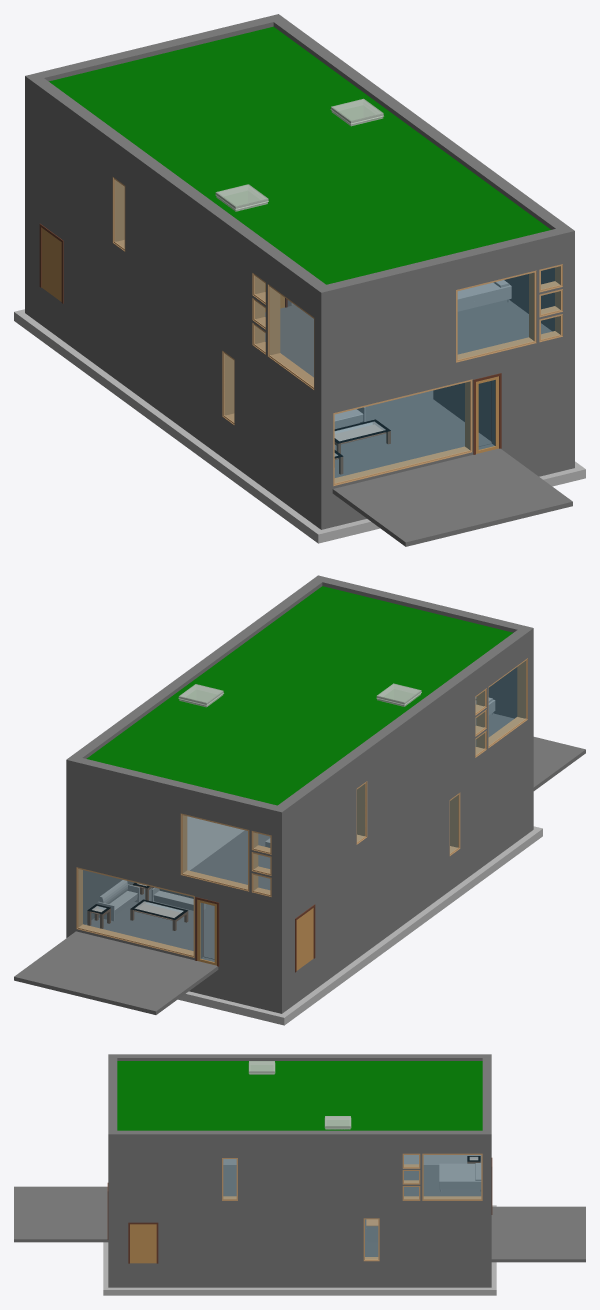
File: ifcFile-1585745290338.ifc.dae
3 renders of one model, top to bottom at view 1: azimuth 30°, elevation 25°; view 2: azimuth 150°, elevation 25°; view 3: azimuth 270°, elevation 25°, orthographic. The views are drawn at different scales.
Parts seen in each view (by area): view 1: 3ThA22djr8AQQ9eQMA5s7I, 2O2Fr$t4X7Zf8NOew3FNhv, 2O2Fr$t4X7Zf8NOew3FLPP, 2O2Fr$t4X7Zf8NOew3FLOH, 1CZILmCaHETO8tf3SgGEXu, 2O2Fr$t4X7Zf8NOew3FNr2, 2O2Fr$t4X7Zf8NOew3FKE5, 1hOSvn6df7F8_7GcBWlRBU, 0jf0rYHfX3RAB3bSIRjmr1, 2OBrcmyk58NupXoVOHUtxr, 0jf0rYHfX3RAB3bSIRjmoa, 1hOSvn6df7F8_7GcBWlS_W (+19 smaller); view 2: 3ThA22djr8AQQ9eQMA5s7I, 2O2Fr$t4X7Zf8NOew3FNhv, 2O2Fr$t4X7Zf8NOew3FLPP, 2O2Fr$t4X7Zf8NOew3FLQD, 1CZILmCaHETO8tf3SgGEWh, 2O2Fr$t4X7Zf8NOew3FNtn, 2O2Fr$t4X7Zf8NOew3FKE5, 1hOSvn6df7F8_7GcBWlR72, 0jf0rYHfX3RAB3bSIRjmr1, 0jf0rYHfX3RAB3bSIRjmmy, 1hOSvn6df7F8_7GcBWlSXO, 0kF45Qs8L9PAM9kmb1lT5t (+20 smaller); view 3: 3ThA22djr8AQQ9eQMA5s7I, 2O2Fr$t4X7Zf8NOew3FNqI, 2O2Fr$t4X7Zf8NOew3FLR9, 2O2Fr$t4X7Zf8NOew3FK9N, 0jf0rYHfX3RAB3bSIRjmpw, 1CZILmCaHETO8tf3SgGEWh, 1CZILmCaHETO8tf3SgGEXu, 0kF45Qs8L9PAM9kmb1lT5d, 1l0GAJtRTFv8$zmKJOH4pU, 0jf0rYHfX3RAB3bSIRjmr1, 1hOSvn6df7F8_7GcBWlRGQ, 2OBrcmyk58NupXoVOHUtDX (+10 smaller).
Boxes of the visible parts, box(x1,y1,x2,y2) form: 3ThA22djr8AQQ9eQMA5s7I: box(49, 26, 550, 284); 2O2Fr$t4X7Zf8NOew3FNhv: box(32, 187, 314, 486); 2O2Fr$t4X7Zf8NOew3FLPP: box(25, 94, 321, 398); 2O2Fr$t4X7Zf8NOew3FLOH: box(321, 249, 574, 398); 1CZILmCaHETO8tf3SgGEXu: box(332, 448, 572, 546); 2O2Fr$t4X7Zf8NOew3FNr2: box(314, 340, 562, 491); 2O2Fr$t4X7Zf8NOew3FKE5: box(32, 281, 314, 524); 1hOSvn6df7F8_7GcBWlRBU: box(333, 379, 472, 486); 0jf0rYHfX3RAB3bSIRjmr1: box(32, 78, 325, 305); 2OBrcmyk58NupXoVOHUtxr: box(334, 390, 491, 477); 0jf0rYHfX3RAB3bSIRjmoa: box(314, 229, 562, 310); 1hOSvn6df7F8_7GcBWlS_W: box(456, 270, 536, 362); 3ThA22djr8AQQ9eQMA5s7I: box(86, 586, 513, 805); 2O2Fr$t4X7Zf8NOew3FNhv: box(287, 722, 527, 977); 2O2Fr$t4X7Zf8NOew3FLPP: box(282, 644, 533, 901); 2O2Fr$t4X7Zf8NOew3FLQD: box(66, 775, 281, 902); 1CZILmCaHETO8tf3SgGEWh: box(14, 931, 218, 1014); 2O2Fr$t4X7Zf8NOew3FNtn: box(66, 850, 287, 981); 2O2Fr$t4X7Zf8NOew3FKE5: box(287, 802, 527, 1009); 1hOSvn6df7F8_7GcBWlR72: box(76, 867, 194, 957); 0jf0rYHfX3RAB3bSIRjmr1: box(278, 630, 527, 823); 0jf0rYHfX3RAB3bSIRjmmy: box(66, 755, 287, 827); 1hOSvn6df7F8_7GcBWlSXO: box(180, 813, 249, 891); 0kF45Qs8L9PAM9kmb1lT5t: box(262, 836, 530, 1025); 3ThA22djr8AQQ9eQMA5s7I: box(117, 1061, 482, 1130); 2O2Fr$t4X7Zf8NOew3FNqI: box(108, 1202, 482, 1263); 2O2Fr$t4X7Zf8NOew3FLR9: box(108, 1146, 491, 1202); 2O2Fr$t4X7Zf8NOew3FK9N: box(108, 1263, 482, 1287); 0jf0rYHfX3RAB3bSIRjmpw: box(108, 1130, 482, 1146); 1CZILmCaHETO8tf3SgGEWh: box(491, 1206, 585, 1262); 1CZILmCaHETO8tf3SgGEXu: box(14, 1186, 108, 1242); 0kF45Qs8L9PAM9kmb1lT5d: box(103, 1281, 496, 1295); 1l0GAJtRTFv8$zmKJOH4pU: box(422, 1153, 482, 1200); 0jf0rYHfX3RAB3bSIRjmr1: box(117, 1054, 482, 1060); 1hOSvn6df7F8_7GcBWlRGQ: box(128, 1222, 158, 1263); 2OBrcmyk58NupXoVOHUtDX: box(404, 1165, 481, 1196).
Bounding box in the file's own units: 9.28 × 26.57 × 8.18.
